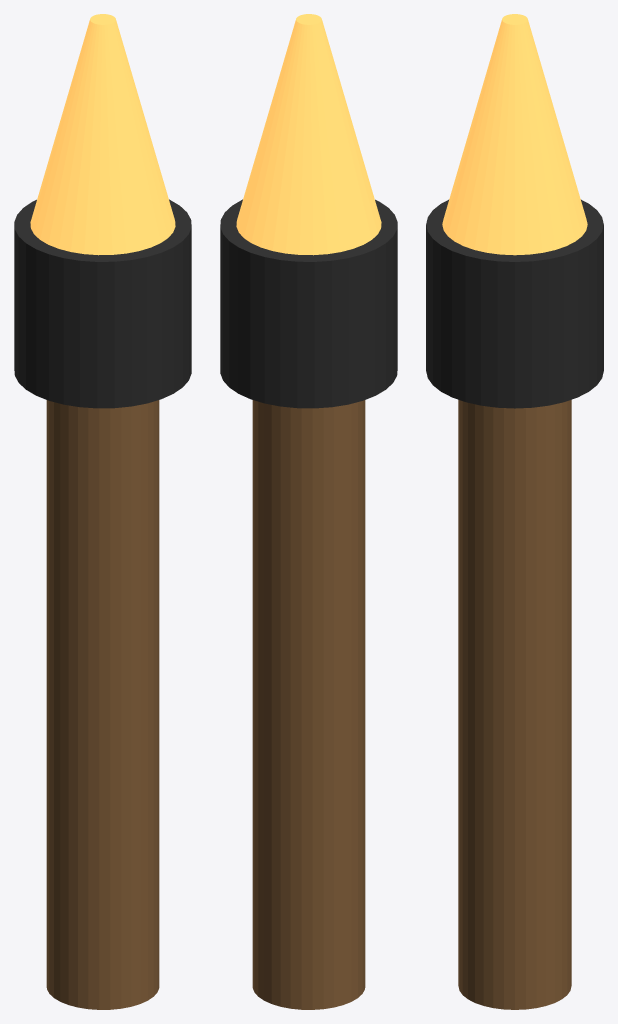
The model's file is torch.glb.
3 renders of one model, left to right at view 1: azimuth 30°, elevation 25°; view 2: azimuth 150°, elevation 25°; view 3: azimuth 270°, elevation 25°, orthographic.
Visible parts, largest first — view 1: TorchHandle, TorchHead, TorchFlame; view 2: TorchHandle, TorchHead, TorchFlame; view 3: TorchHandle, TorchHead, TorchFlame.
Part boxes in pixels (box(x1,y1,x2,y2)): TorchHandle: box(46, 400, 159, 1009); TorchHead: box(14, 199, 191, 408); TorchFlame: box(30, 14, 175, 255); TorchHandle: box(252, 400, 365, 1009); TorchHead: box(220, 199, 397, 408); TorchFlame: box(236, 14, 381, 255); TorchHandle: box(458, 400, 571, 1009); TorchHead: box(426, 199, 603, 408); TorchFlame: box(442, 14, 587, 255).
Bounding box in the file's own units: 0.11 × 0.66 × 0.11.
